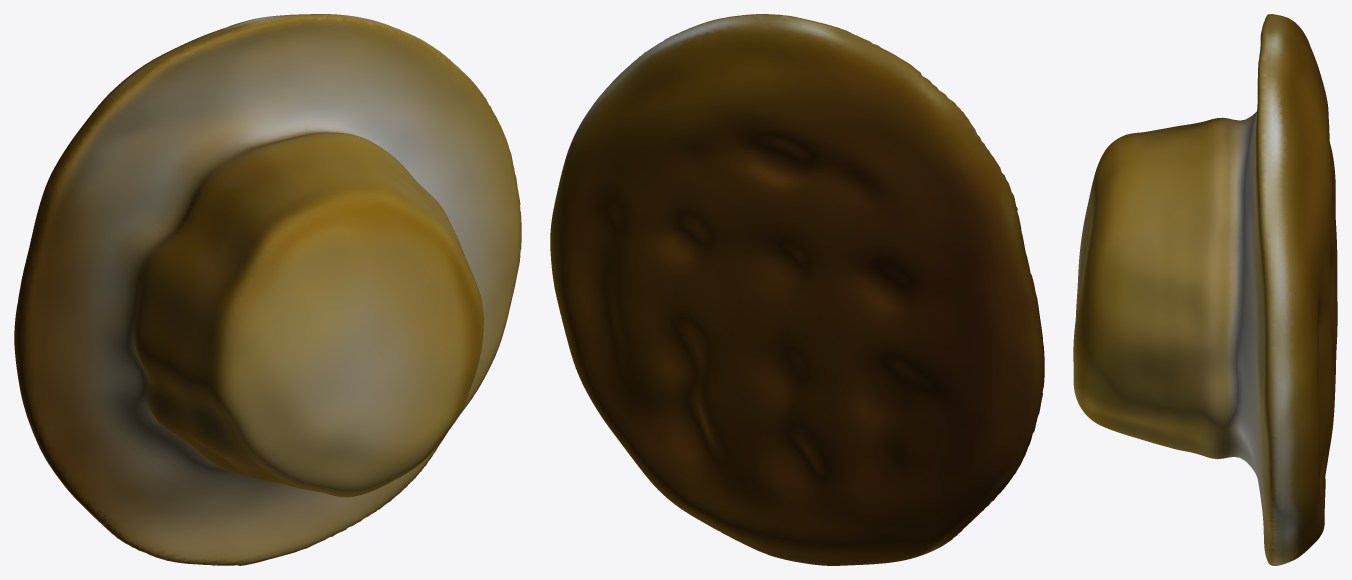
Rendered from hat.glb.
3 renders of one model, left to right at view 1: azimuth 30°, elevation 25°; view 2: azimuth 150°, elevation 25°; view 3: azimuth 270°, elevation 25°, orthographic. The views are drawn at different scales.
Bounding box in the file's own units: 0.9584 × 0.999 × 0.4847.
